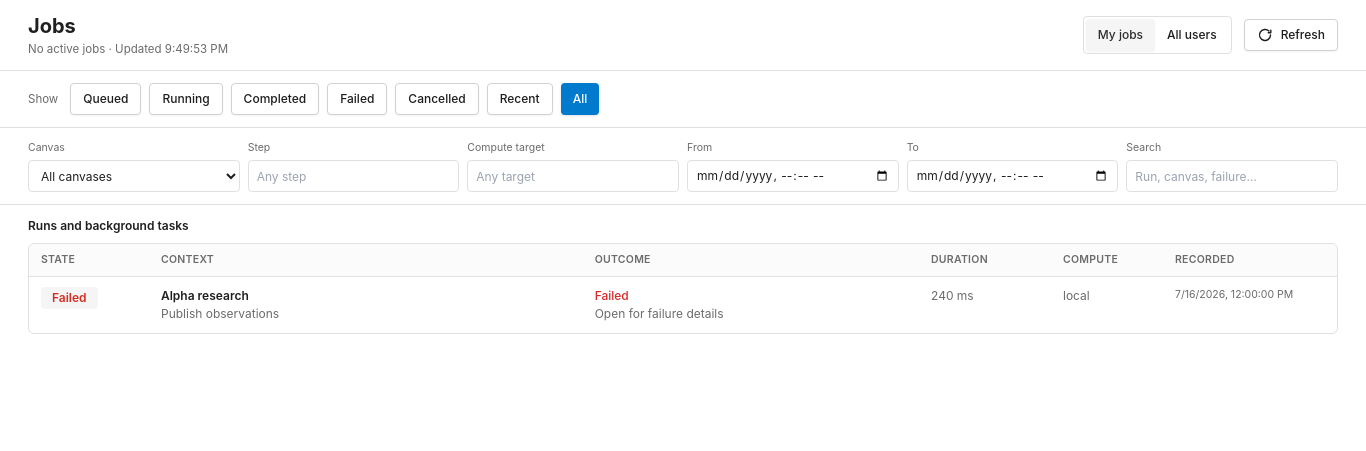
Test: JobsView › shows normalized workspace history and stable canvas/node links
Expected: the text "Alpha research" is shown, [161, 288, 249, 303]
Expected: the text "Publish observations" is shown, [161, 306, 279, 321]
Click the button with test id "job-row-run-1" at (683, 305), box [29, 277, 1337, 333]
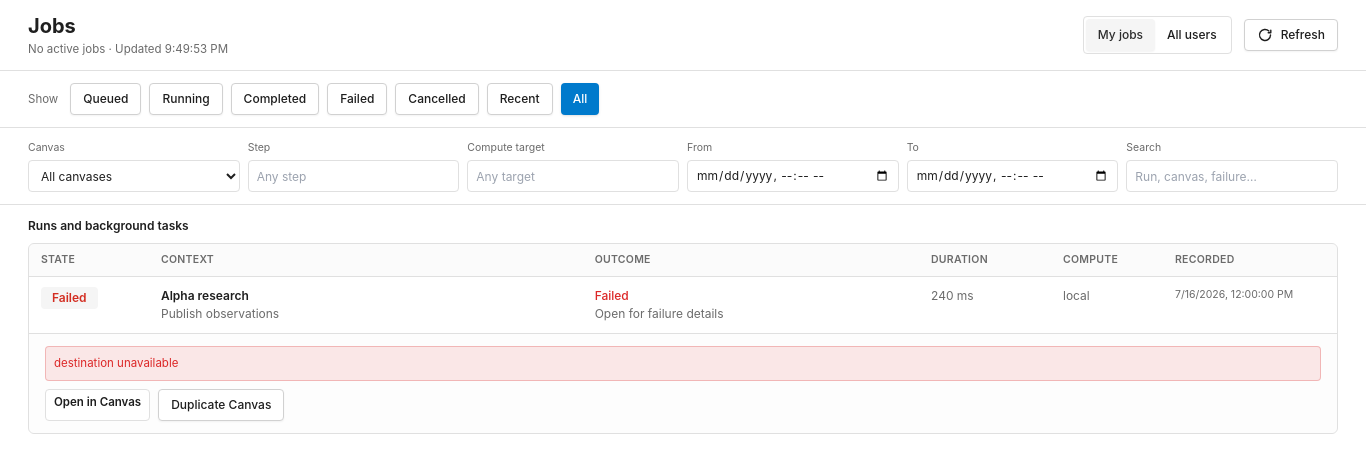
Expected: the message reads "destination unavailable", [54, 356, 178, 370]
Expected: the text "destination unavailable" is shown once, [45, 346, 1321, 381]
